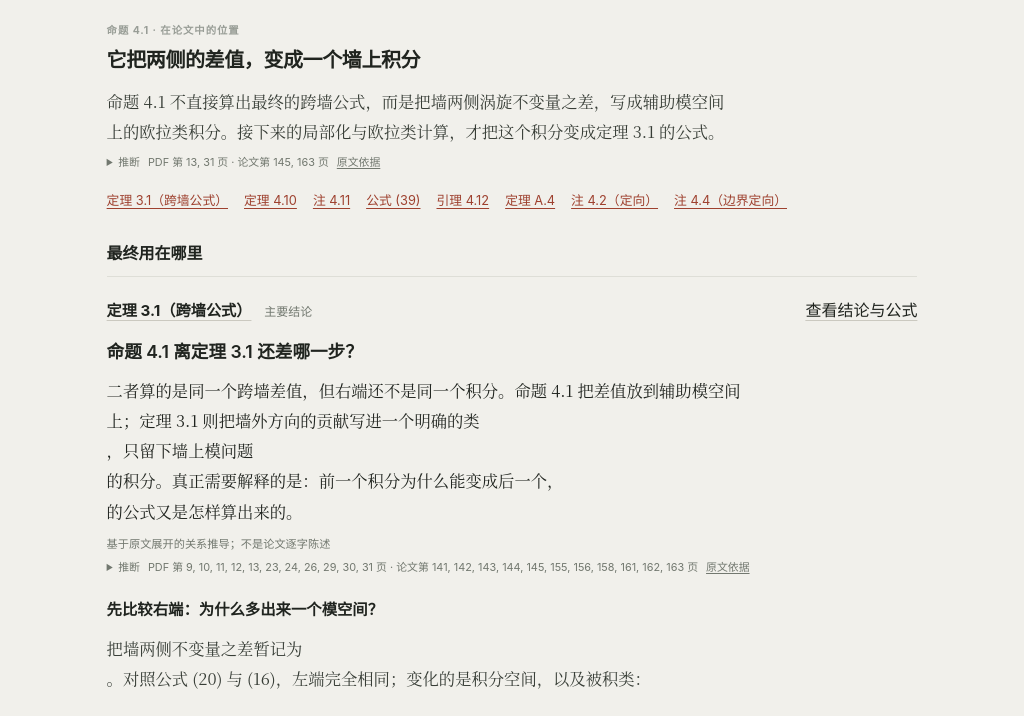
Test case: 相关结论陈述 › 展开原文陈述仍显示公式说明，并保留可展开的证据与对应 PDF 页链接
Click the button "定理 3.1（跨墙公式）" at point(179, 311), box top-left (107, 297), bottom-right (251, 324)
(page scrolled)
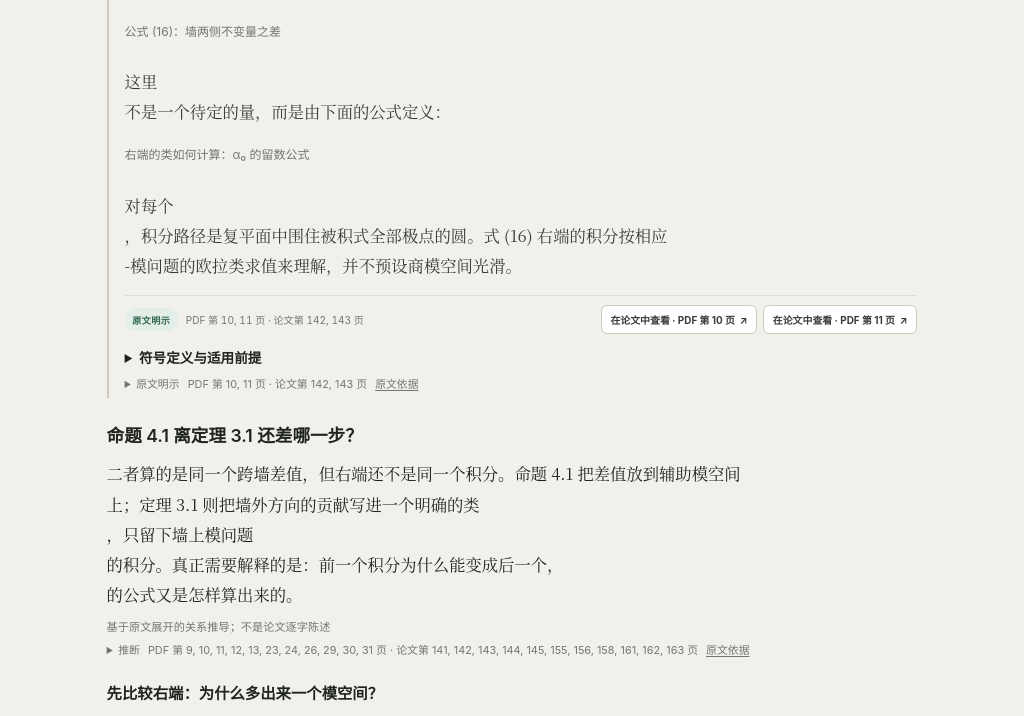
Expected: the element showing "公式 (16)：墙两侧不变量之差" is shown, top-left (125, 24), bottom-right (281, 39)
Expected: the element showing "右端的类如何计算：α₀ 的留数公式" is shown, top-left (125, 147), bottom-right (310, 162)
Click the heading that starts with "原文明示" at point(277, 384), box top-left (136, 377), bottom-right (419, 391)
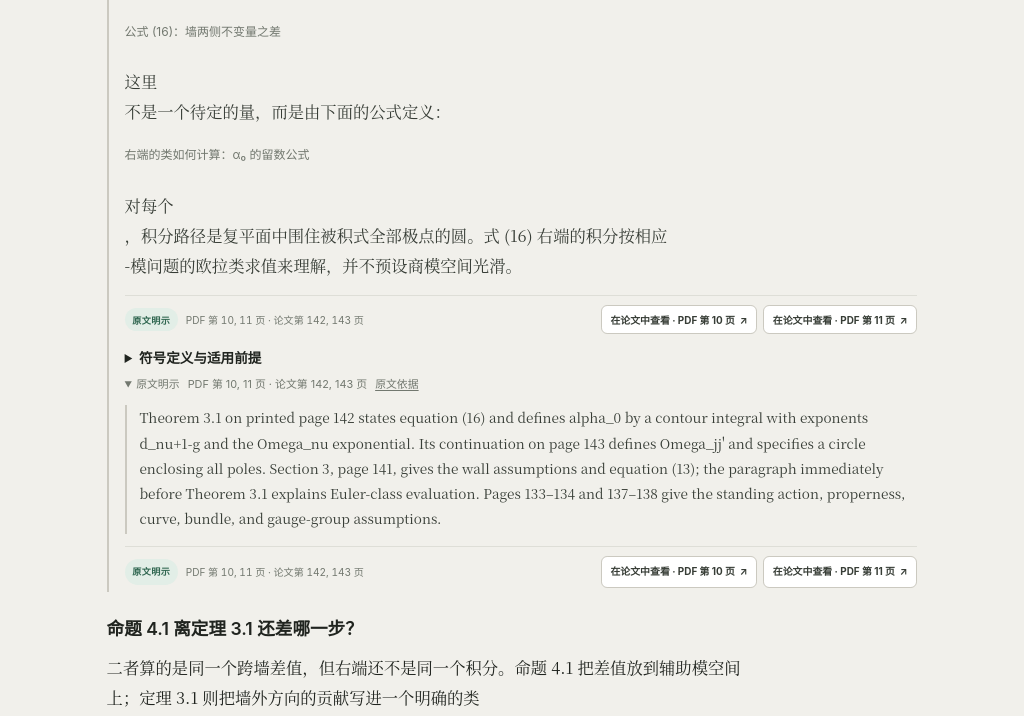
Expected: the 2nd text with class "evidence-badge" reads "原文明示", top-left (136, 377), bottom-right (180, 391)
Expected: the text "Theorem 3.1 on printed page 142 states equation (16) and defines alpha_0 by a contour integral with exponents d_nu+1-g and the Omega_nu exponential. Its continu" is shown, top-left (139, 407), bottom-right (905, 528)
Expected: the link named "在论文中查看，PDF 第 10 页（在新标签页打开）" is shown, top-left (601, 556), bottom-right (757, 588)
